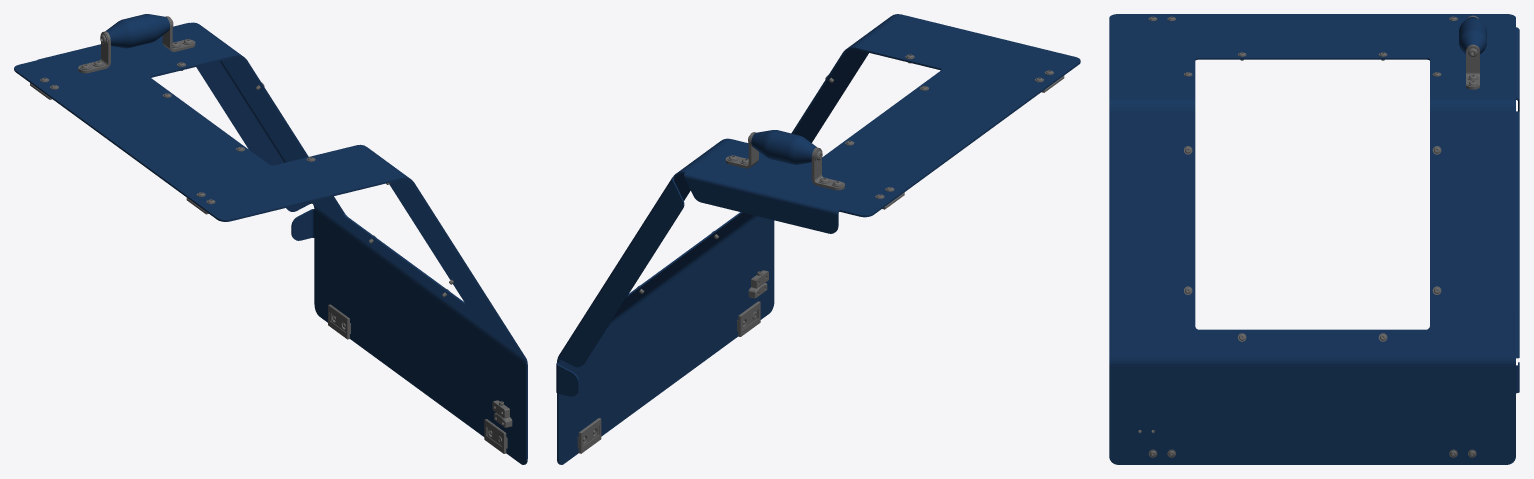
The model's file is shunk_machine_door_transparent.dae.
3 views of the same model, side by side, from view 1: azimuth 30°, elevation 25°; view 2: azimuth 150°, elevation 25°; view 3: azimuth 270°, elevation 25° (orthographic). The views are drawn at different scales.
Visible parts, largest first — view 1: node135, node200; view 2: node135, node200, node141; view 3: node135, node200, node202.
Boxes of the visible parts, box(x1,y1,x2,y2) form: node135: box(14, 22, 527, 464); node200: box(105, 14, 169, 48); node135: box(556, 14, 1080, 464); node200: box(751, 130, 816, 164); node141: box(577, 418, 601, 453); node135: box(1109, 14, 1519, 464); node200: box(1459, 17, 1486, 53); node202: box(1466, 44, 1479, 89).
Size of the model in its own units: 0.363 by 0.437 by 0.4065.
